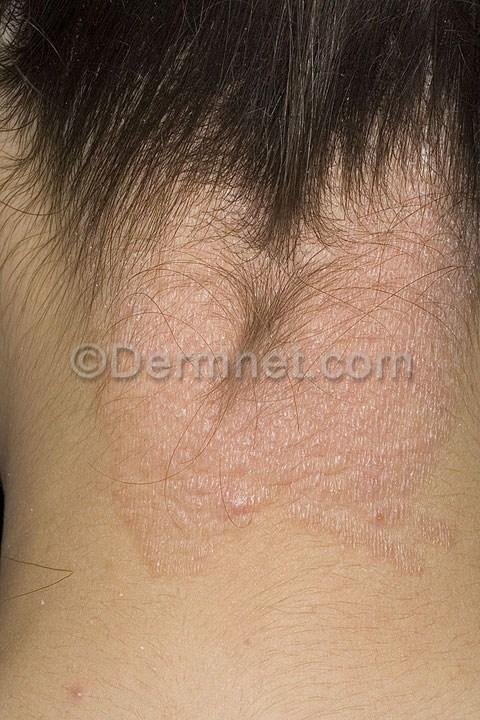Eczema: (74, 131, 452, 349), (96, 396, 438, 596)
